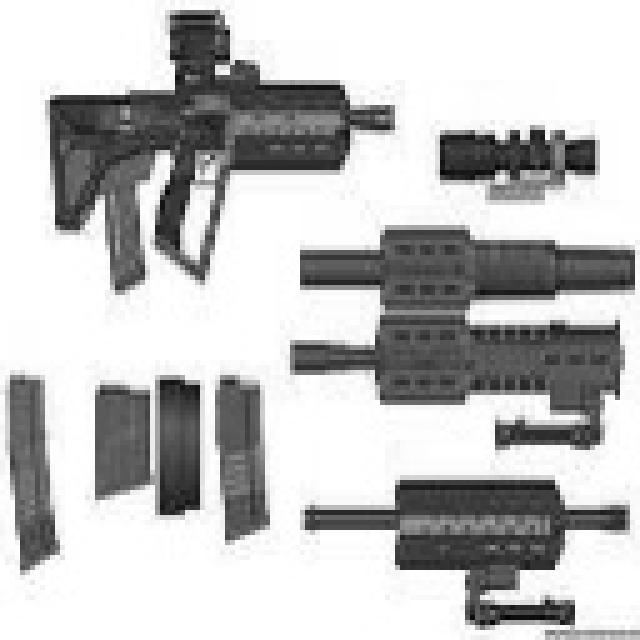Rifle: (0, 0, 415, 310)
